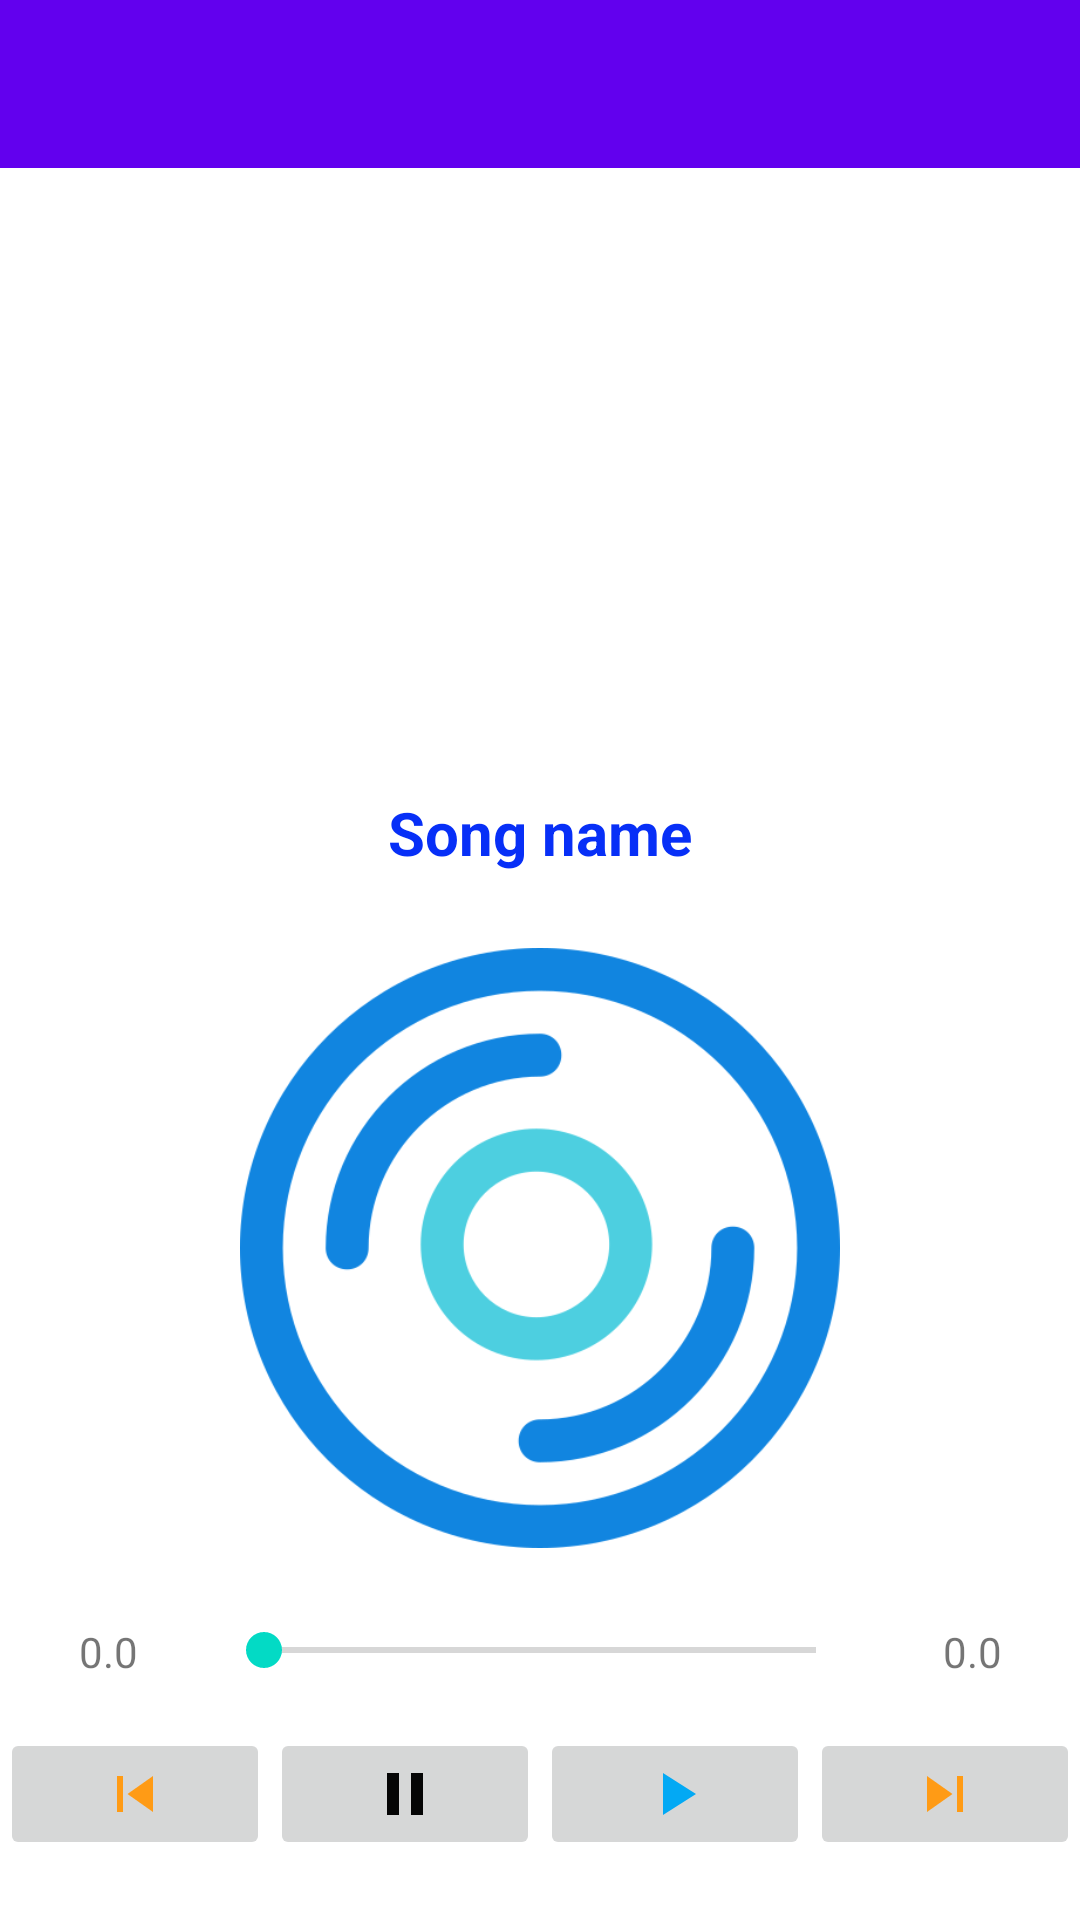

Screen size 1080x1920. Icon name, then its box in pixels as [x1,y1,x2,y2]:
pause: [282,1746,528,1842]
play: [552,1746,798,1842]
skip next: [822,1746,1068,1842]
skip previous: [12,1746,258,1842]
